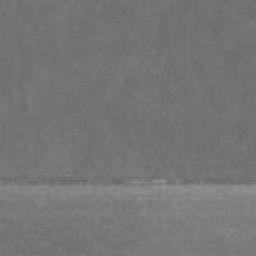Welding line: (0, 175, 256, 187)
